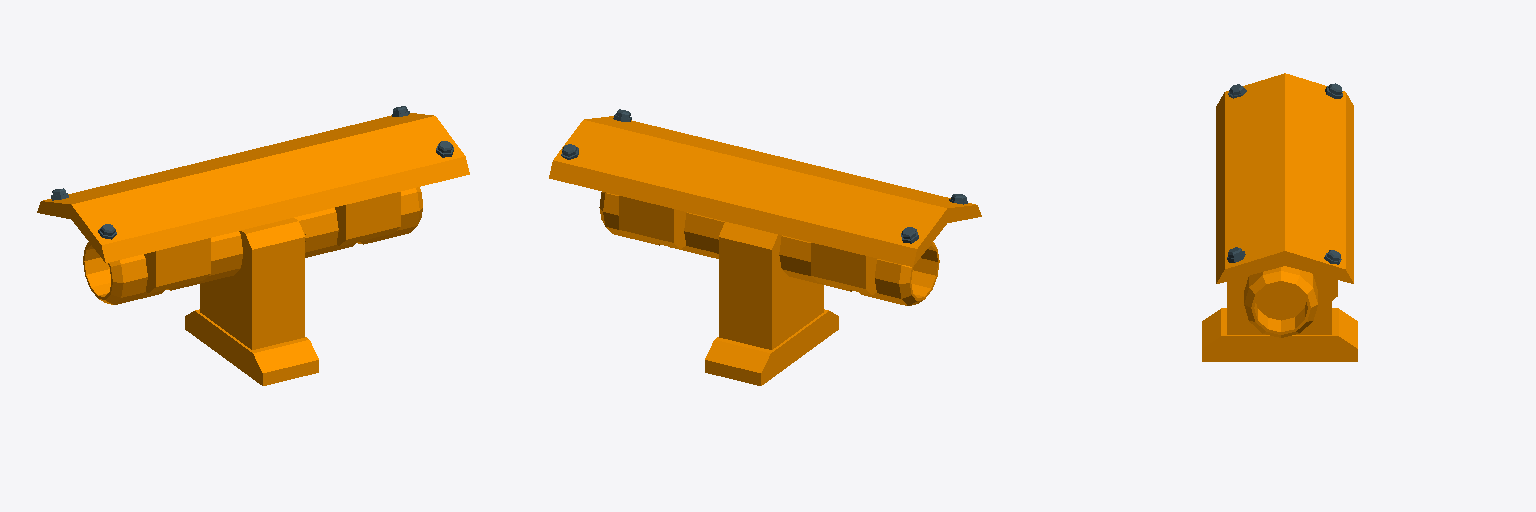
The model's file is lightArmorNew1.obj.
3 renders of one model, left to right at view 1: azimuth 30°, elevation 25°; view 2: azimuth 150°, elevation 25°; view 3: azimuth 270°, elevation 25°, orthographic.
Parts seen in each view (by area): view 1: armor_mesh[number redacted]; view 2: armor_mesh[number redacted]; view 3: armor_mesh[number redacted].
Boxes of the visible parts, box(x1,y1,x2,y2) form: armor_mesh[number redacted]: box(37, 106, 469, 385); armor_mesh[number redacted]: box(549, 109, 981, 385); armor_mesh[number redacted]: box(1202, 73, 1357, 361).
Size of the model in its own units: 0.7858 by 0.3873 by 0.2919.